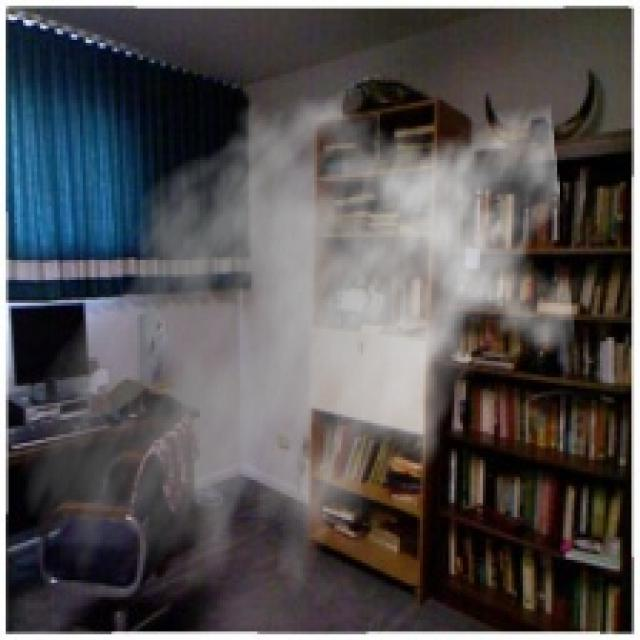smoke: (17, 66, 577, 631)
